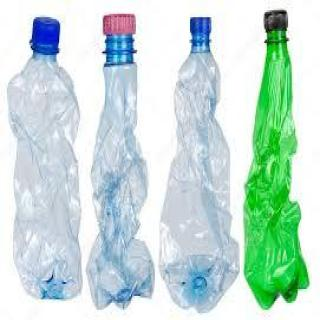Plastic-bottle: (158, 13, 243, 318), (6, 15, 85, 306), (85, 13, 158, 312), (243, 8, 314, 314)
